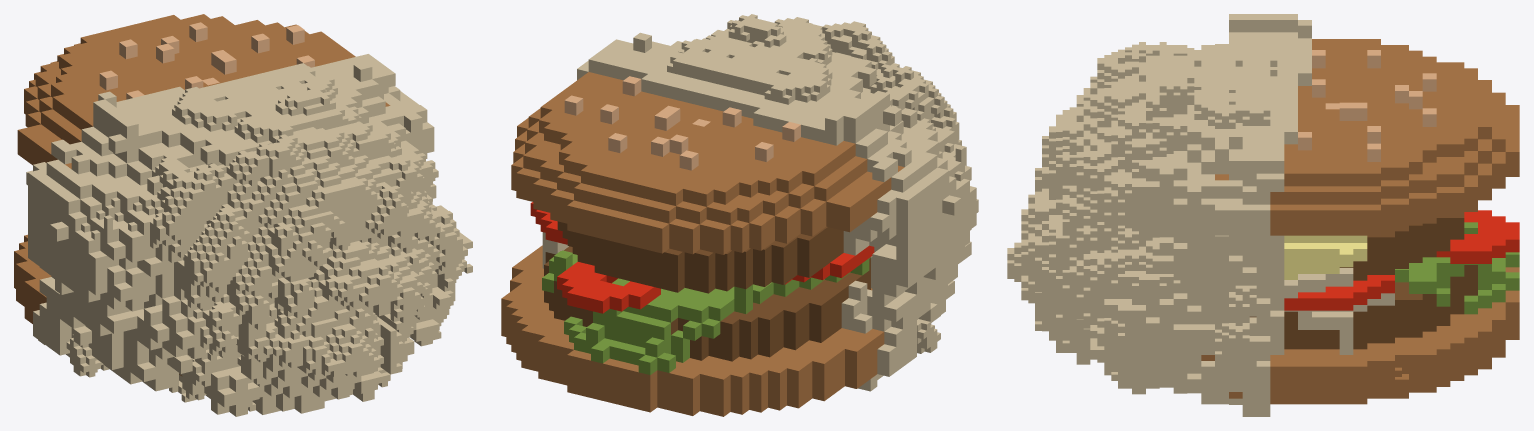
The model's file is comida-6.obj.
3 views of the same model, side by side, from view 1: azimuth 30°, elevation 25°; view 2: azimuth 150°, elevation 25°; view 3: azimuth 270°, elevation 25° (orthographic). The views are drawn at different scales.
Bounding box in the file's own units: 6.5 × 4.6 × 7.4.
1 material, 1 textured.
